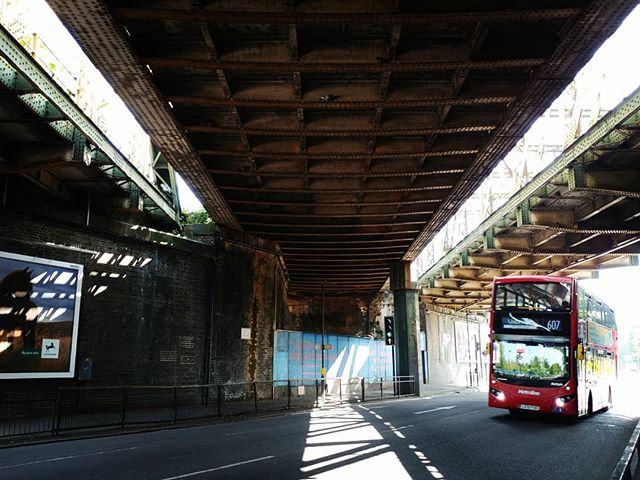bridge: (74, 1, 608, 266), (423, 89, 640, 327), (1, 13, 204, 240)
bus: (489, 274, 621, 419)
collumn: (380, 264, 429, 398)
street: (1, 387, 637, 480)
